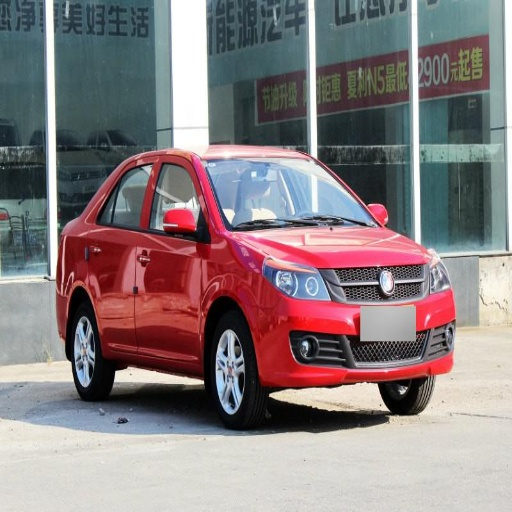front_bumper: (251, 263, 454, 386)
front_right_door: (136, 156, 205, 361)
front_right_light: (263, 263, 327, 298)
hood: (233, 225, 429, 268)
